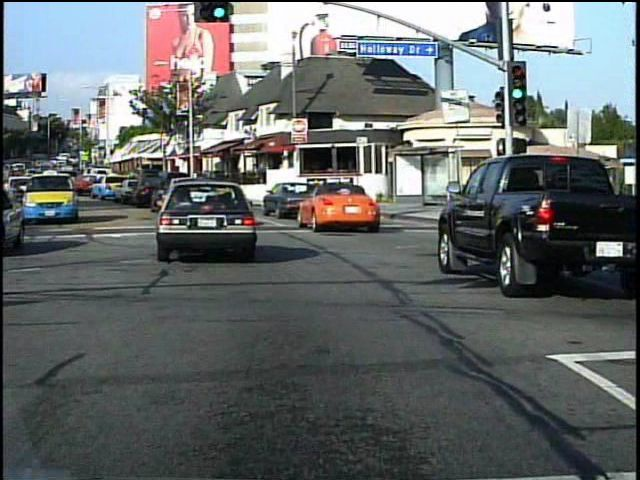person: (584, 188, 606, 252)
